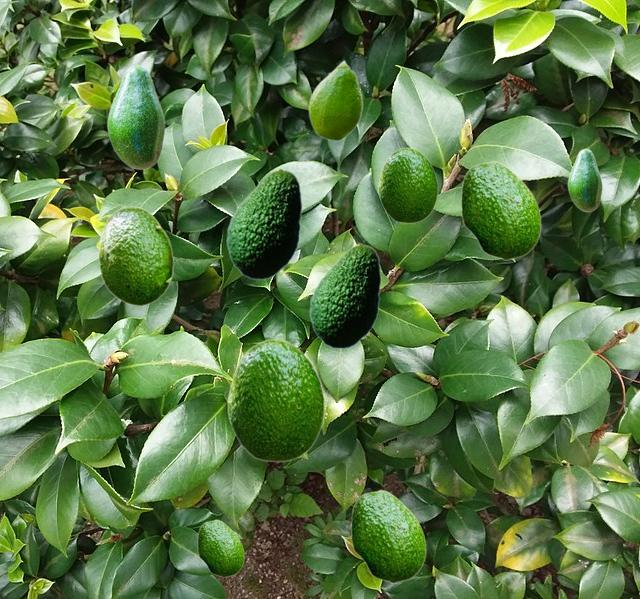avocado: (227, 338, 324, 461), (226, 168, 301, 279), (460, 160, 540, 259), (97, 206, 173, 305), (309, 243, 380, 348), (350, 489, 425, 582), (106, 64, 164, 169), (378, 147, 437, 222), (308, 59, 362, 140), (197, 519, 243, 576), (567, 148, 601, 211)
